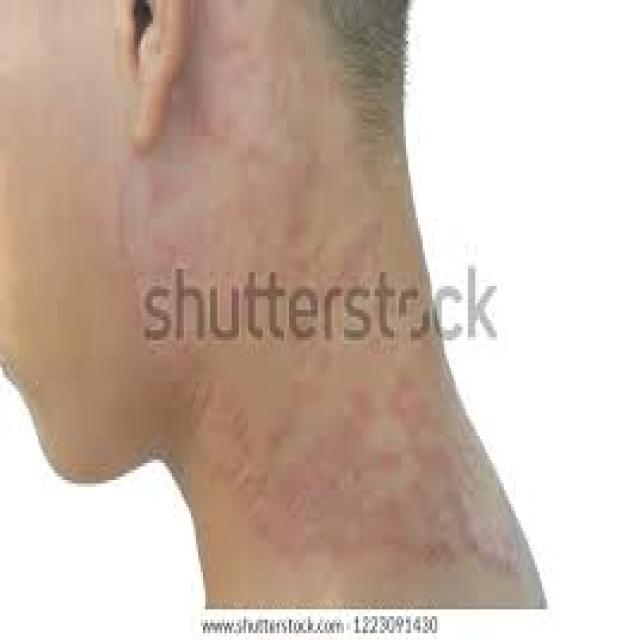Acanthosis Nigricans: (171, 354, 509, 580)
